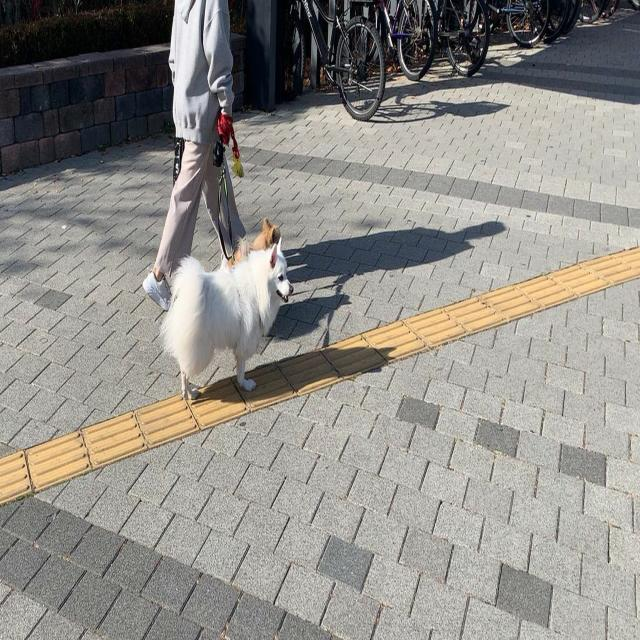Leashed_Dog: (159, 152, 294, 402)
